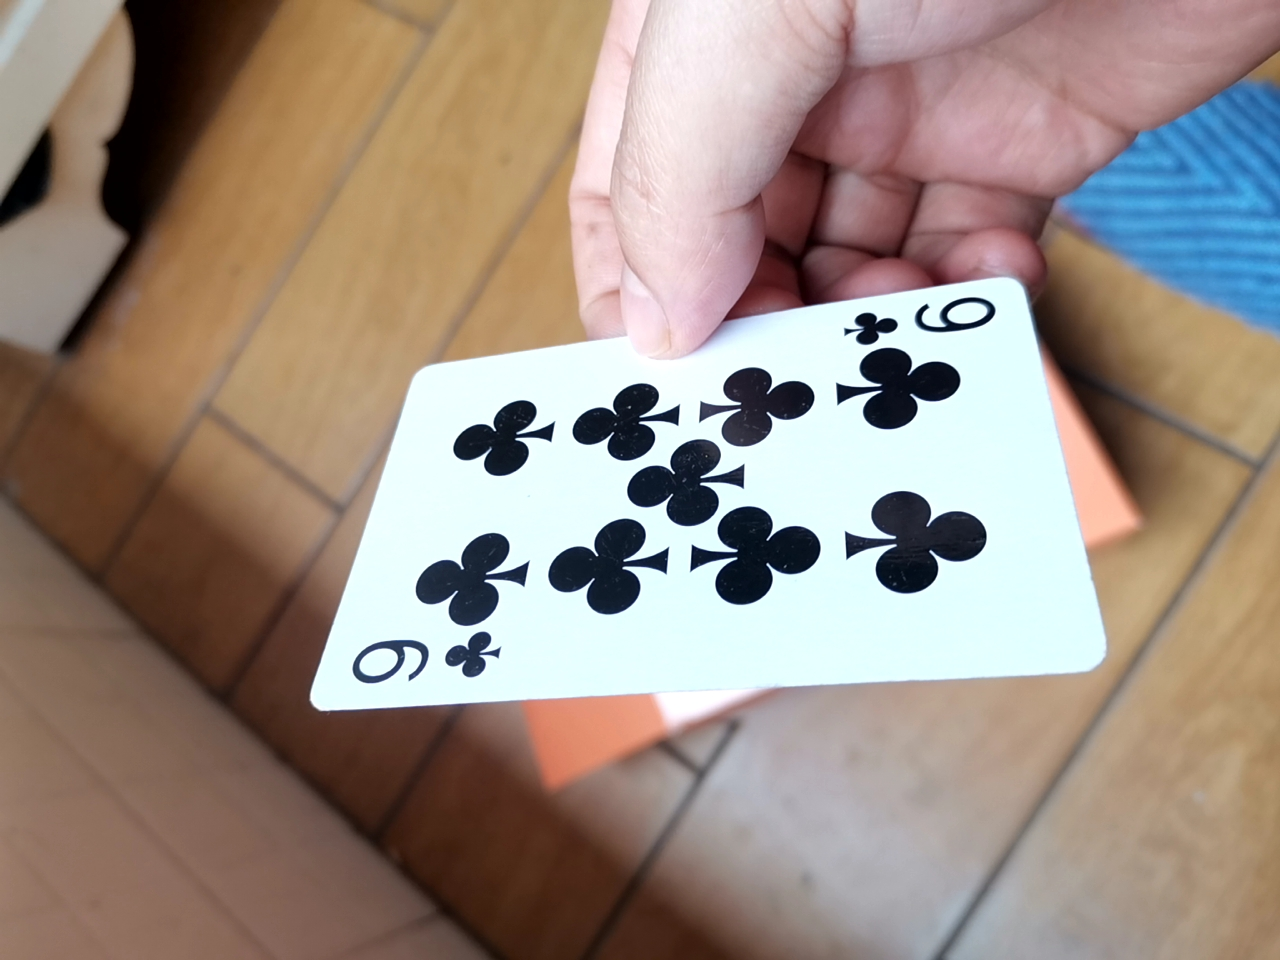mh 9: (287, 279, 1112, 720)
